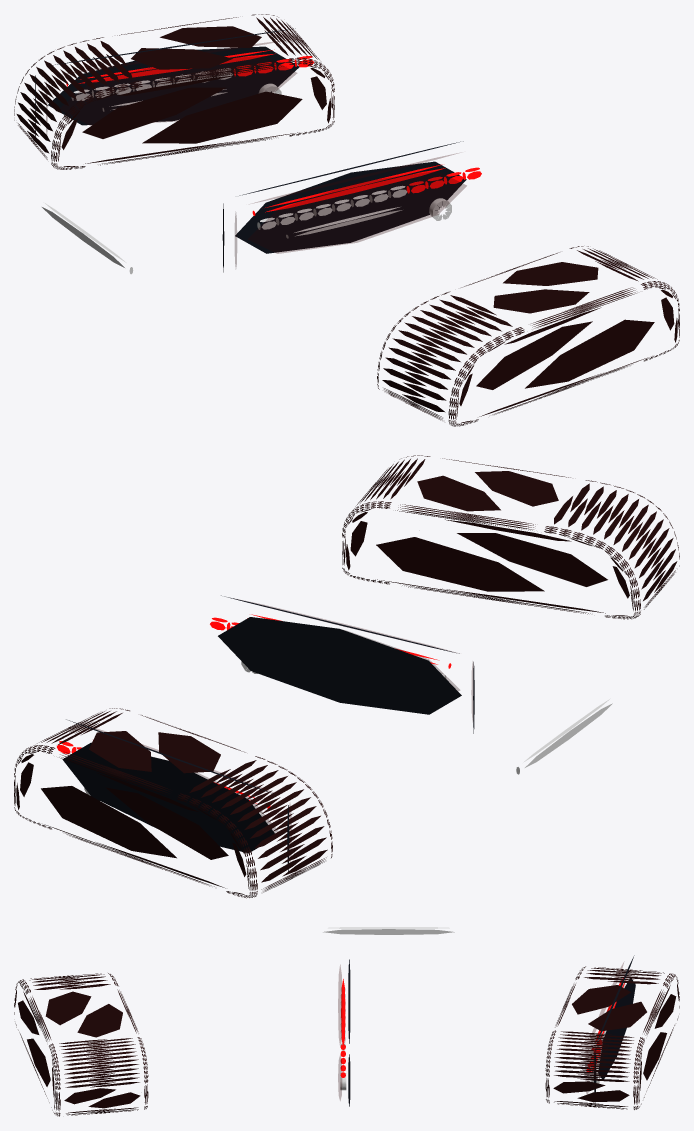
File: taillights.glb
3 views of the same model, one above another, from view 1: azimuth 30°, elevation 25°; view 2: azimuth 150°, elevation 25°; view 3: azimuth 270°, elevation 25° (orthographic). The views are drawn at different scales.
Bounding box in the file's own units: 0.5808 × 0.116 × 1.1.
